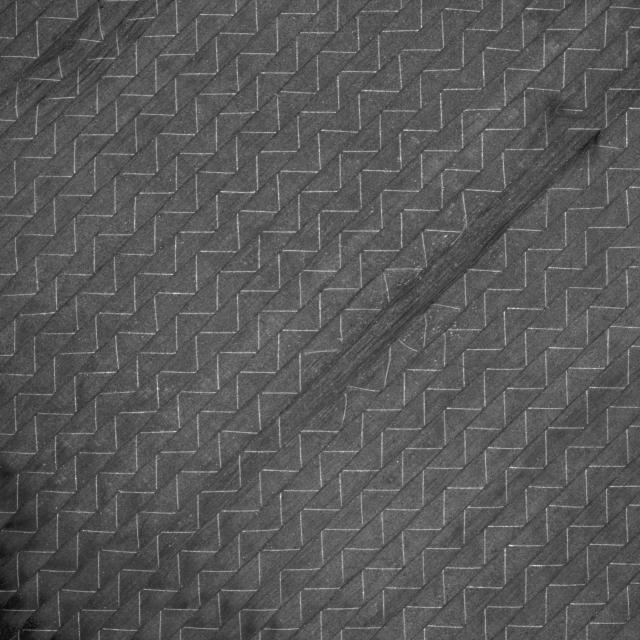carbon-fibre-defect: (197, 111, 604, 514)
